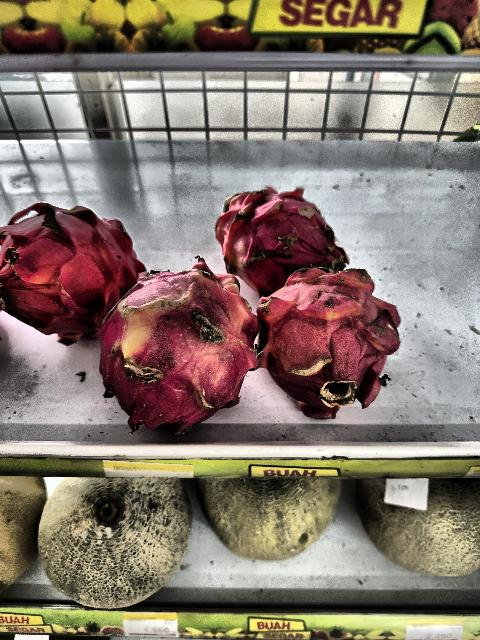buah-naga-belum-matang: (96, 256, 253, 428)
buah-naga-matang: (252, 264, 410, 422), (0, 195, 140, 338), (204, 182, 352, 290)
